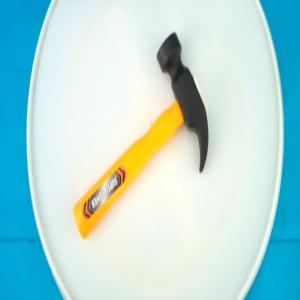martelo: (72, 31, 209, 240)
